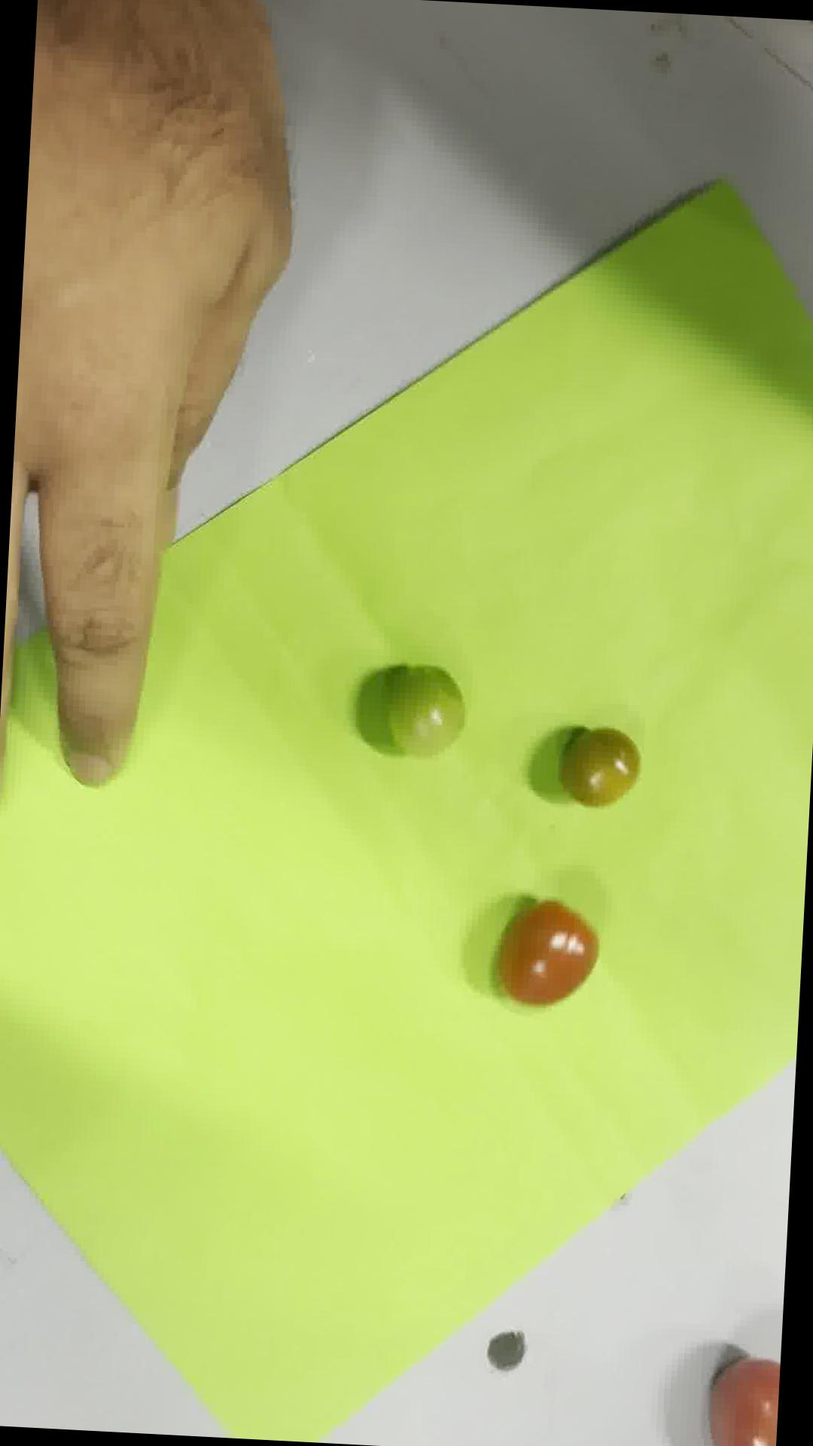green_cherry_tomato: (385, 666, 464, 756)
red_cherry_tomato: (499, 900, 597, 1004)
yellow_cherry_tomato: (558, 727, 640, 807)
